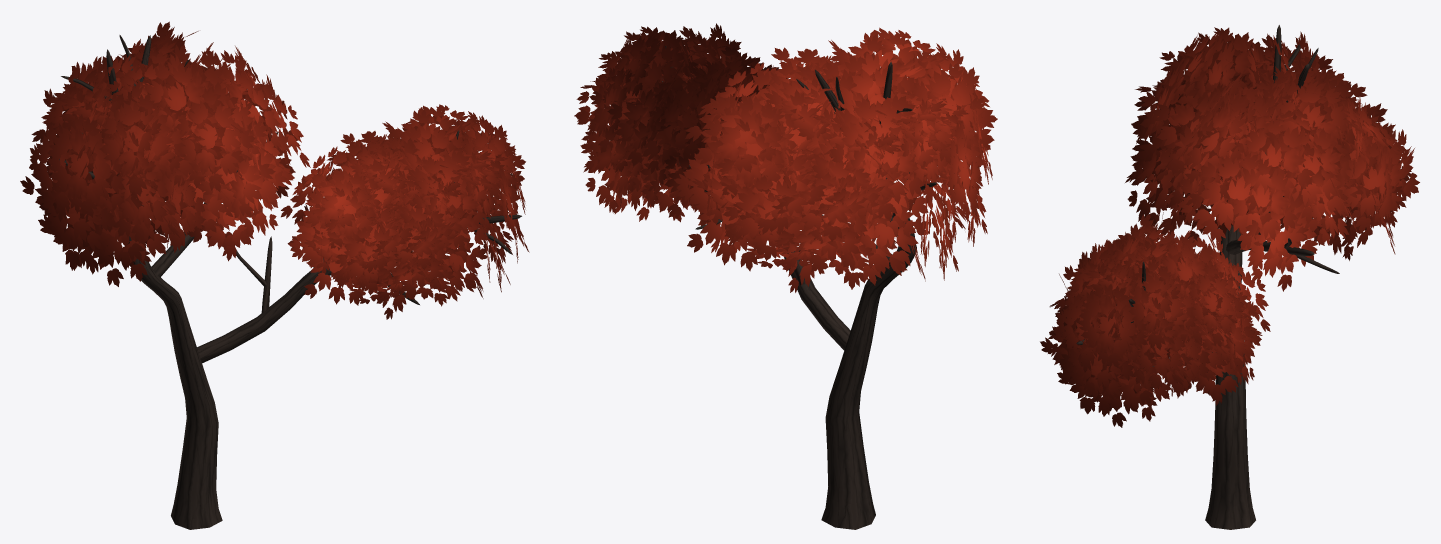
The model's file is maple_tree_1.glb.
The picture shows the model from 3 angles, left to right: view 1: azimuth 30°, elevation 25°; view 2: azimuth 150°, elevation 25°; view 3: azimuth 270°, elevation 25°; orthographic projection. The views are drawn at different scales.
Parts seen in each view (by area): view 1: MapleTree_12; view 2: MapleTree_12; view 3: MapleTree_12.
Boxes of the visible parts, left/top/right/bottom form: MapleTree_12: left=20, top=21, right=529, bottom=529; MapleTree_12: left=574, top=23, right=997, bottom=529; MapleTree_12: left=1040, top=25, right=1419, bottom=529.
Bounding box in the file's own units: 6.23 × 6.64 × 4.9.
Materials: 2 (2 with a texture image).
